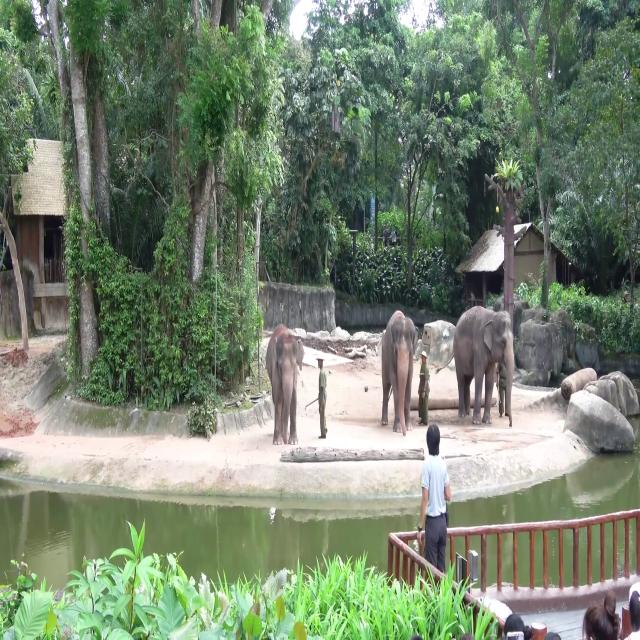Elephant: (454, 304, 514, 426), (380, 310, 419, 436), (265, 323, 304, 445)
person: (417, 423, 451, 585), (417, 350, 430, 425), (316, 358, 328, 438), (383, 224, 389, 246)
